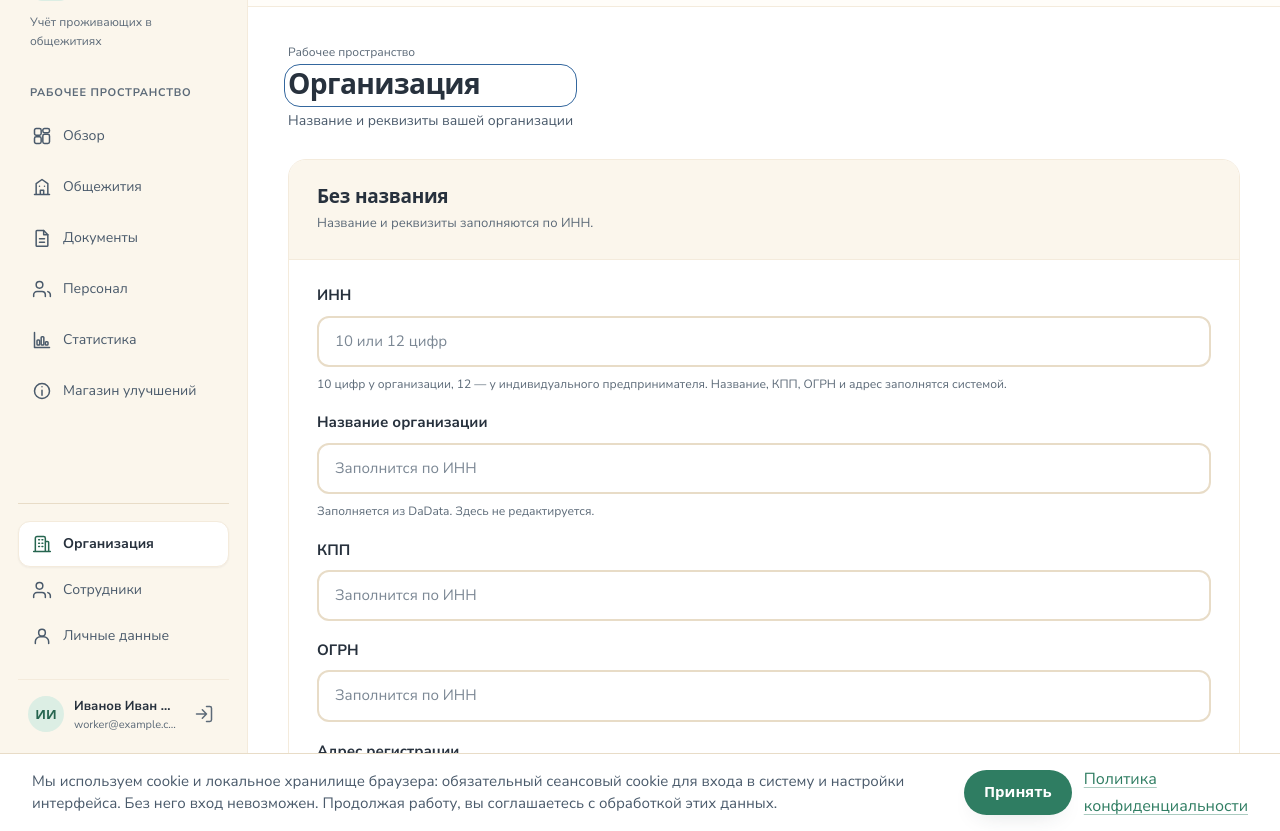
Test: страница организации › не падает, когда у индивидуального предпринимателя КПП пустой
Type "500100732259" into the field with test id "organization-inn".
click(764, 341); type("500100732259")  # box x1=317 y1=316 x2=1211 y2=367
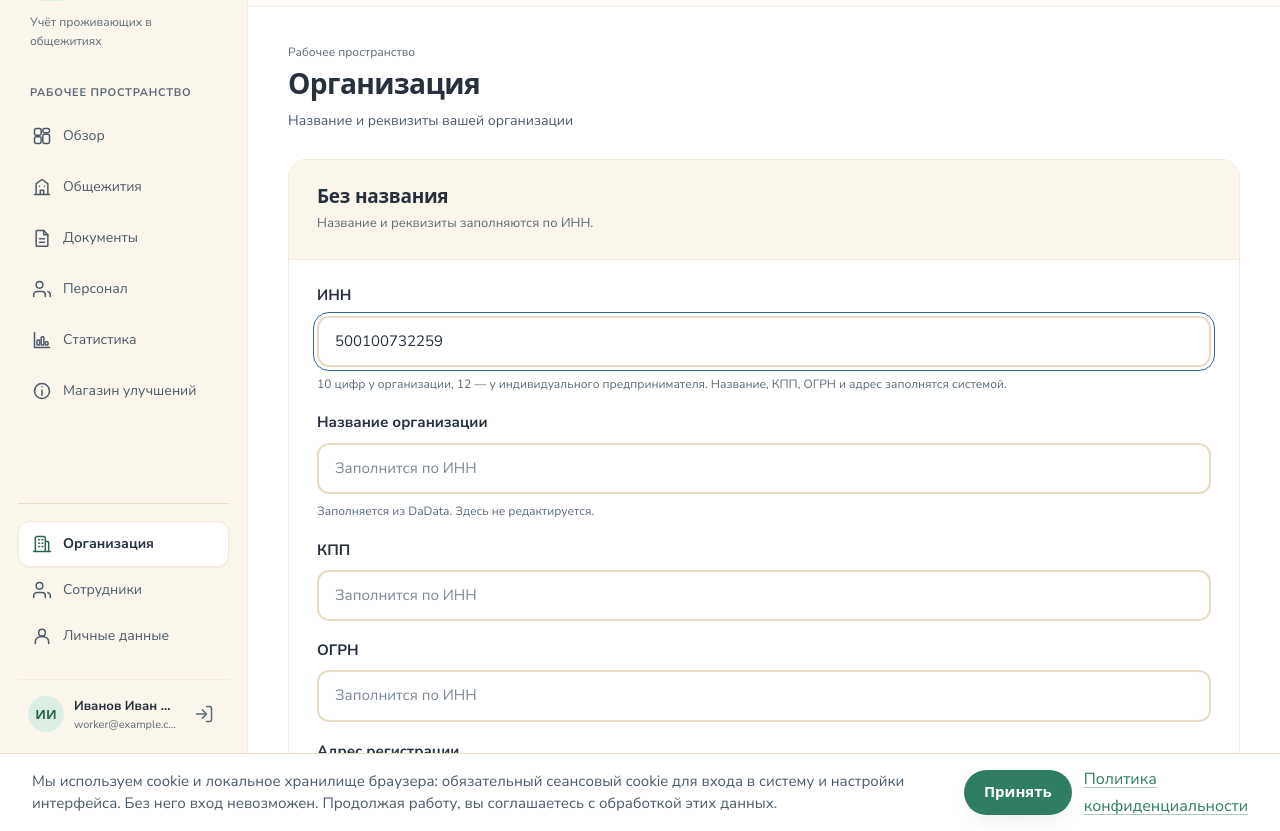
Press Tab
(page scrolled)
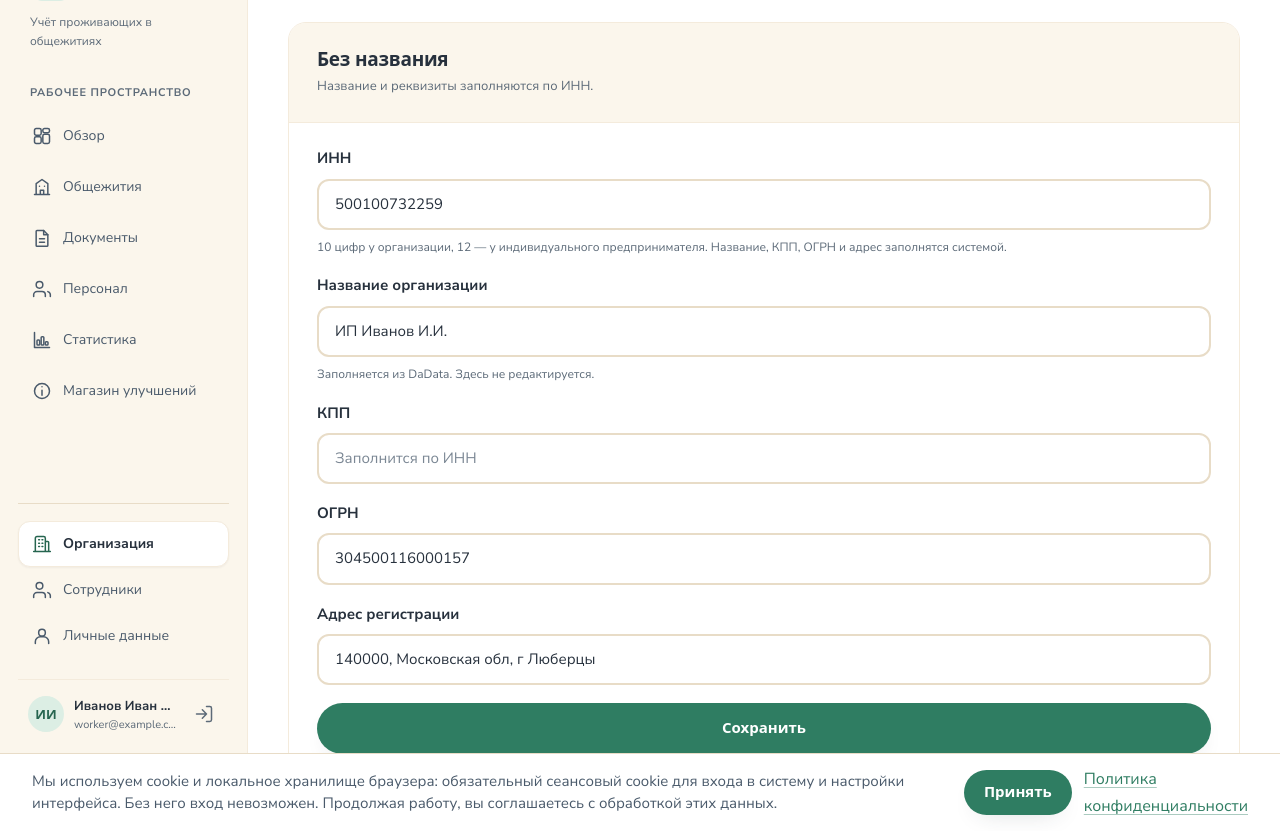
Expected: the field with test id "organization-kpp" is empty, x1=317 y1=433 x2=1211 y2=484
Result: the field with test id "organization-name" holds "ИП Иванов И.И." at x1=317 y1=306 x2=1211 y2=357
Result: the field with test id "organization-ogrn" holds "304500116000157" at x1=317 y1=533 x2=1211 y2=585
